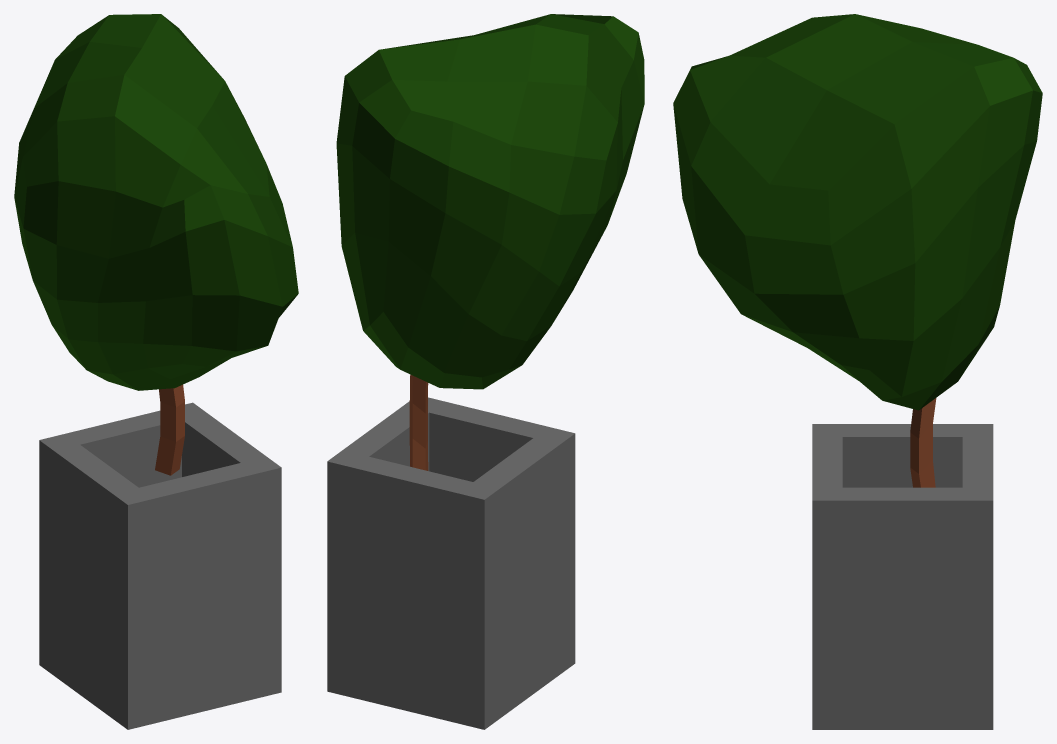
File: AG_Planta.fbx
The picture shows the model from 3 angles, left to right: view 1: azimuth 30°, elevation 25°; view 2: azimuth 150°, elevation 25°; view 3: azimuth 270°, elevation 25°; orthographic projection. The views are drawn at different scales.
Parts seen in each view (by area): view 1: Planta; view 2: Planta; view 3: Planta.
Part boxes in pixels (x1,y1,x2,y2): Planta: [14, 14, 298, 729]; Planta: [327, 14, 644, 729]; Planta: [673, 14, 1042, 729].
Size of the model in its own units: 313 by 790 by 408.
